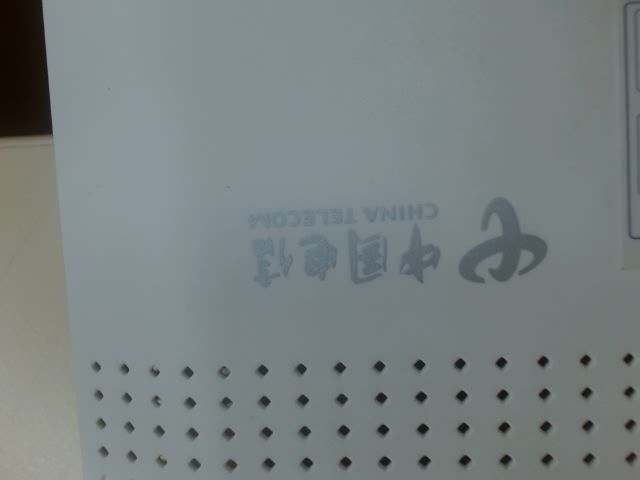AB_ChinaTelecom: (234, 193, 559, 296)
